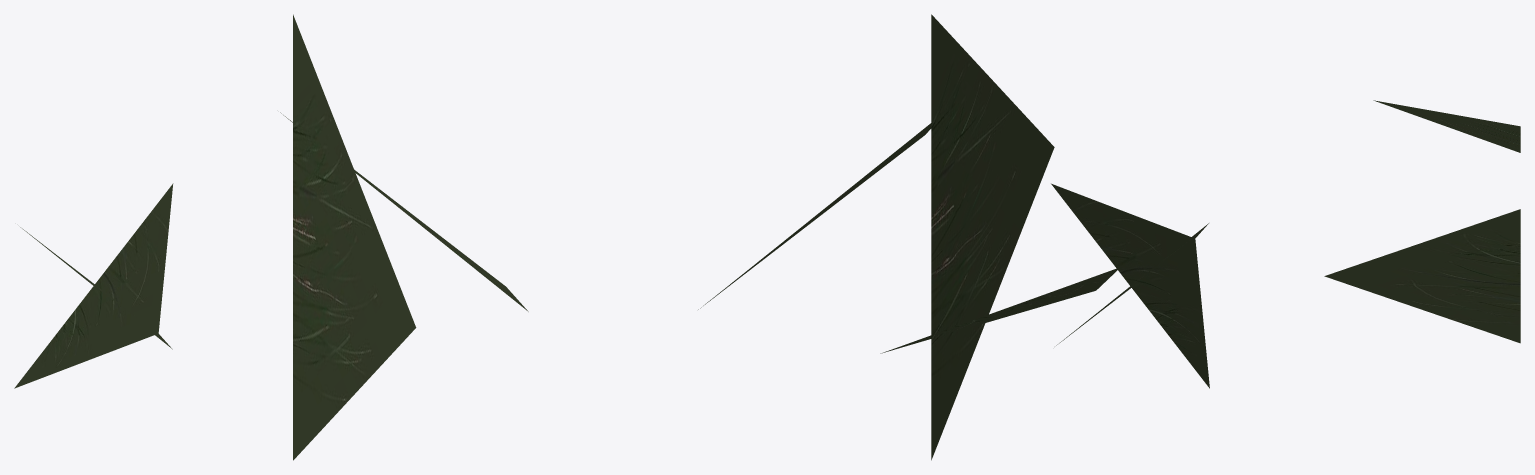
The model's file is brush_newgrass_triangularclumpshort.glb.
3 views of the same model, side by side, from view 1: azimuth 30°, elevation 25°; view 2: azimuth 150°, elevation 25°; view 3: azimuth 270°, elevation 25° (orthographic). The views are drawn at different scales.
Bounding box in the file's own units: 67.36 × 49.27 × 29.78.
1 material, 1 textured.
